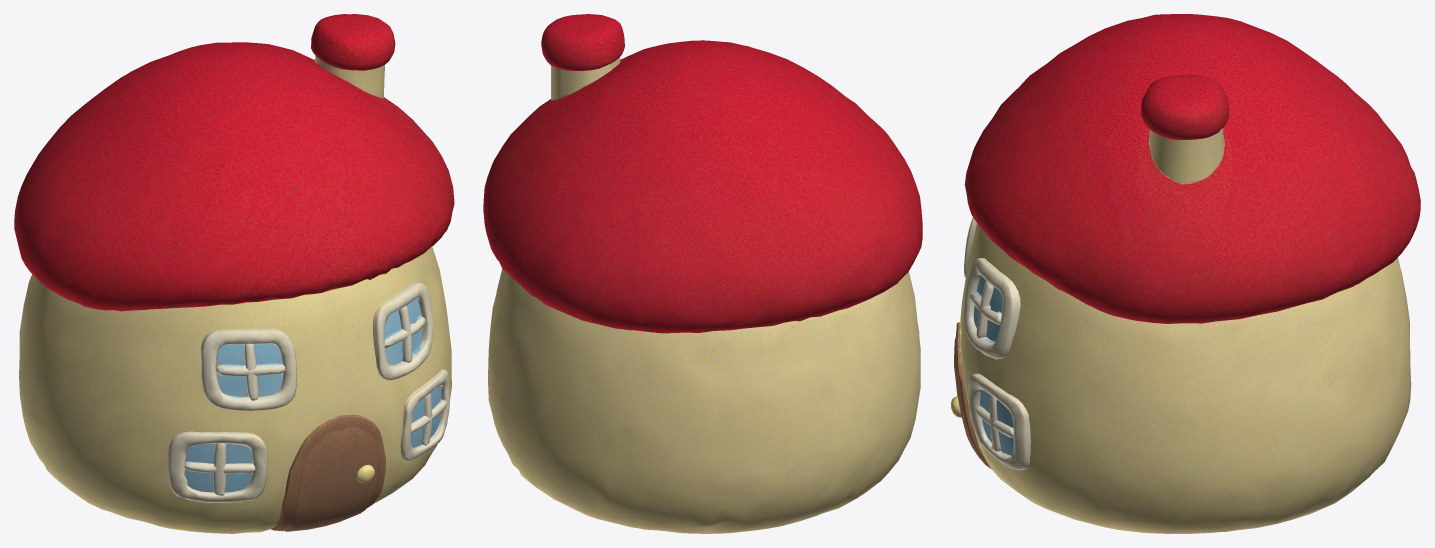
Rendered from building.glb.
The picture shows the model from 3 angles, left to right: view 1: azimuth 30°, elevation 25°; view 2: azimuth 150°, elevation 25°; view 3: azimuth 270°, elevation 25°; orthographic projection. The views are drawn at different scales.
Bounding box in the file's own units: 0.9297 × 0.9487 × 0.9082.
Materials: 1 (1 with a texture image).
